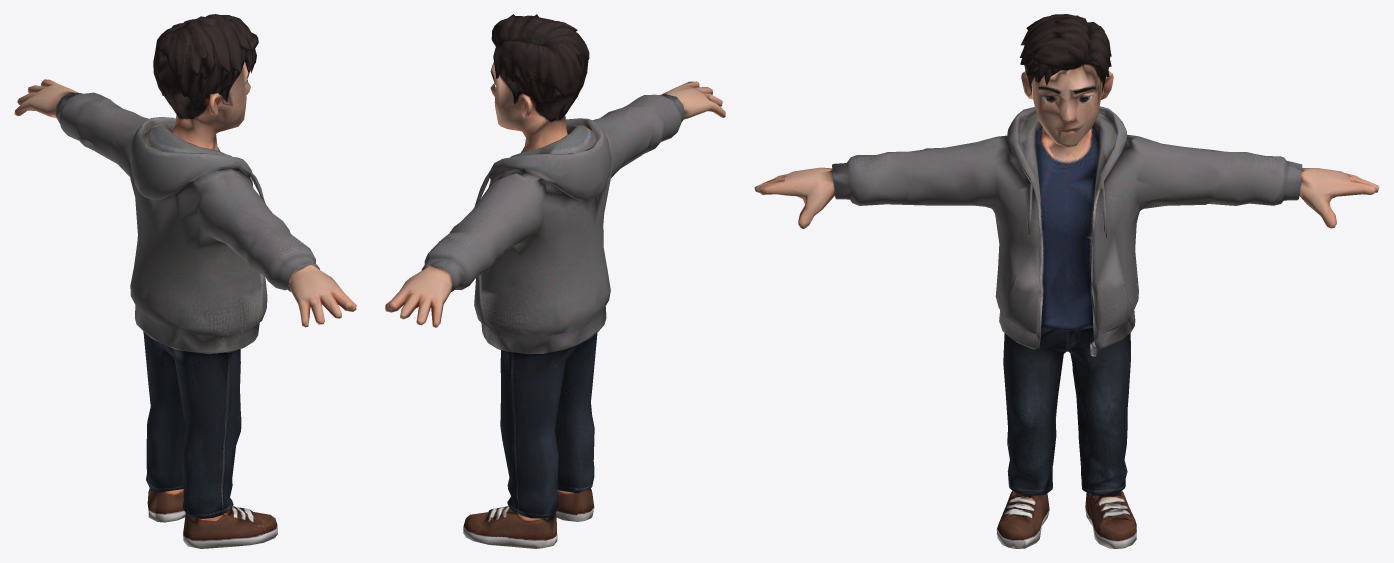
3 views of the same model, side by side, from view 1: azimuth 30°, elevation 25°; view 2: azimuth 150°, elevation 25°; view 3: azimuth 270°, elevation 25° (orthographic).
Visible parts, largest first — view 1: tripo_mesh_529997c8-829c-401c-ba9b-0ccee3296e88; view 2: tripo_mesh_529997c8-829c-401c-ba9b-0ccee3296e88; view 3: tripo_mesh_529997c8-829c-401c-ba9b-0ccee3296e88.
Part boxes in pixels (left/top/right/bottom): tripo_mesh_529997c8-829c-401c-ba9b-0ccee3296e88: left=14, top=14, right=356, bottom=548; tripo_mesh_529997c8-829c-401c-ba9b-0ccee3296e88: left=385, top=14, right=725, bottom=548; tripo_mesh_529997c8-829c-401c-ba9b-0ccee3296e88: left=754, top=14, right=1379, bottom=548.
Size of the model in its own units: 0.4155 by 1.8 by 2.
1 material, 1 textured.
